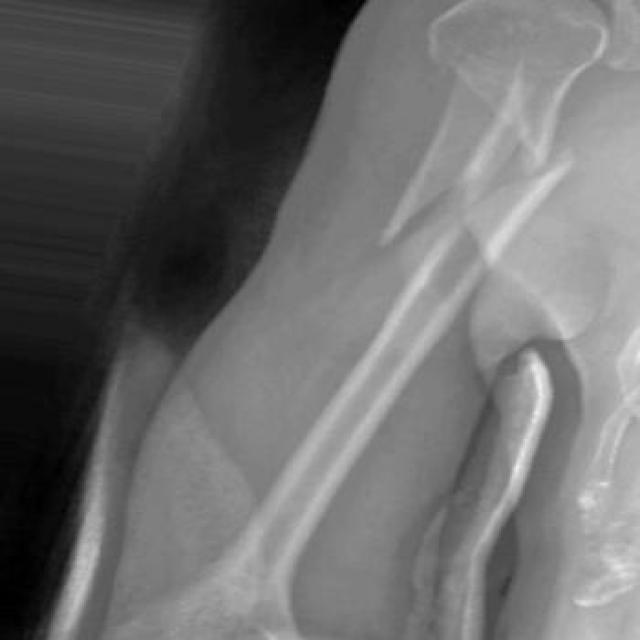Fracture: (374, 137, 575, 276)
